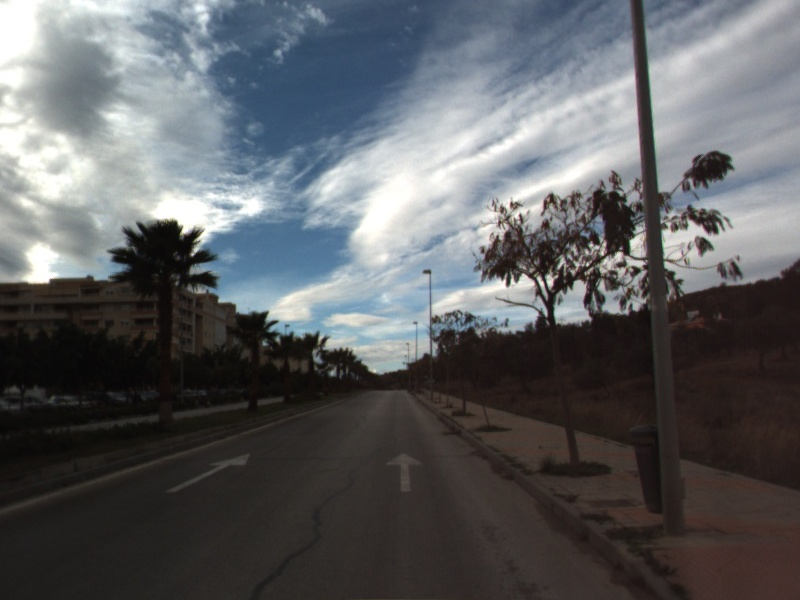STRAIGHT: (164, 451, 252, 494), (384, 450, 425, 494)
